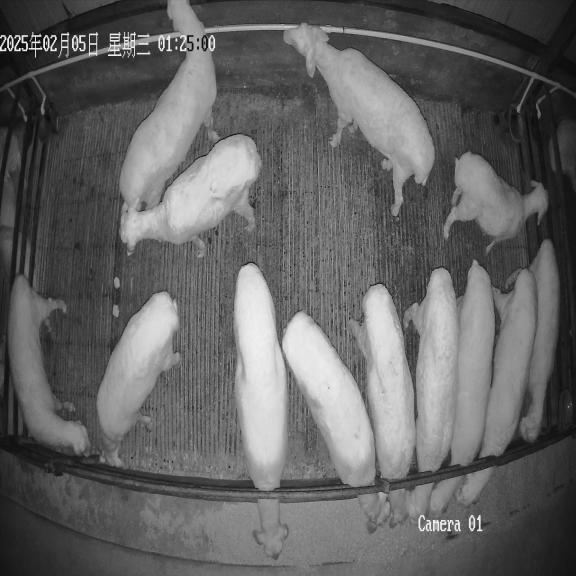eating: (281, 311, 390, 533), (455, 268, 537, 506), (429, 260, 495, 517), (348, 284, 416, 524), (234, 263, 288, 559), (403, 268, 458, 523)
stand: (283, 23, 434, 216), (119, 0, 219, 215), (120, 134, 261, 254), (7, 274, 90, 455), (96, 292, 180, 467), (443, 152, 548, 253), (519, 239, 560, 442)
